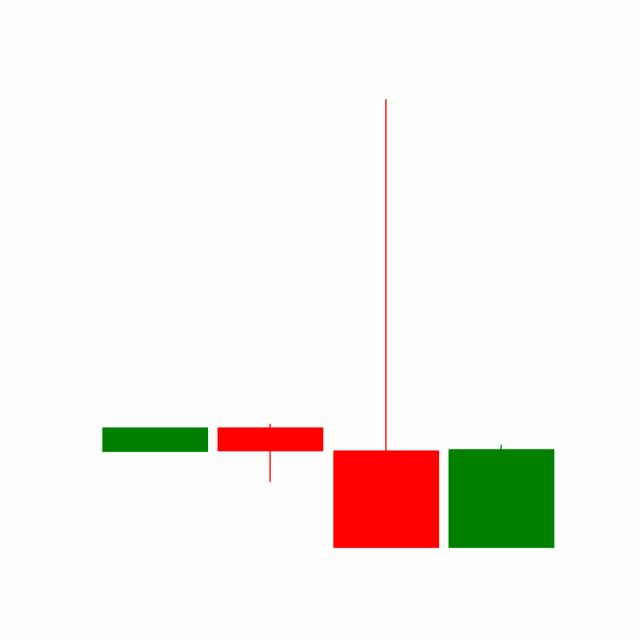Marubozu: (443, 443, 559, 548)
